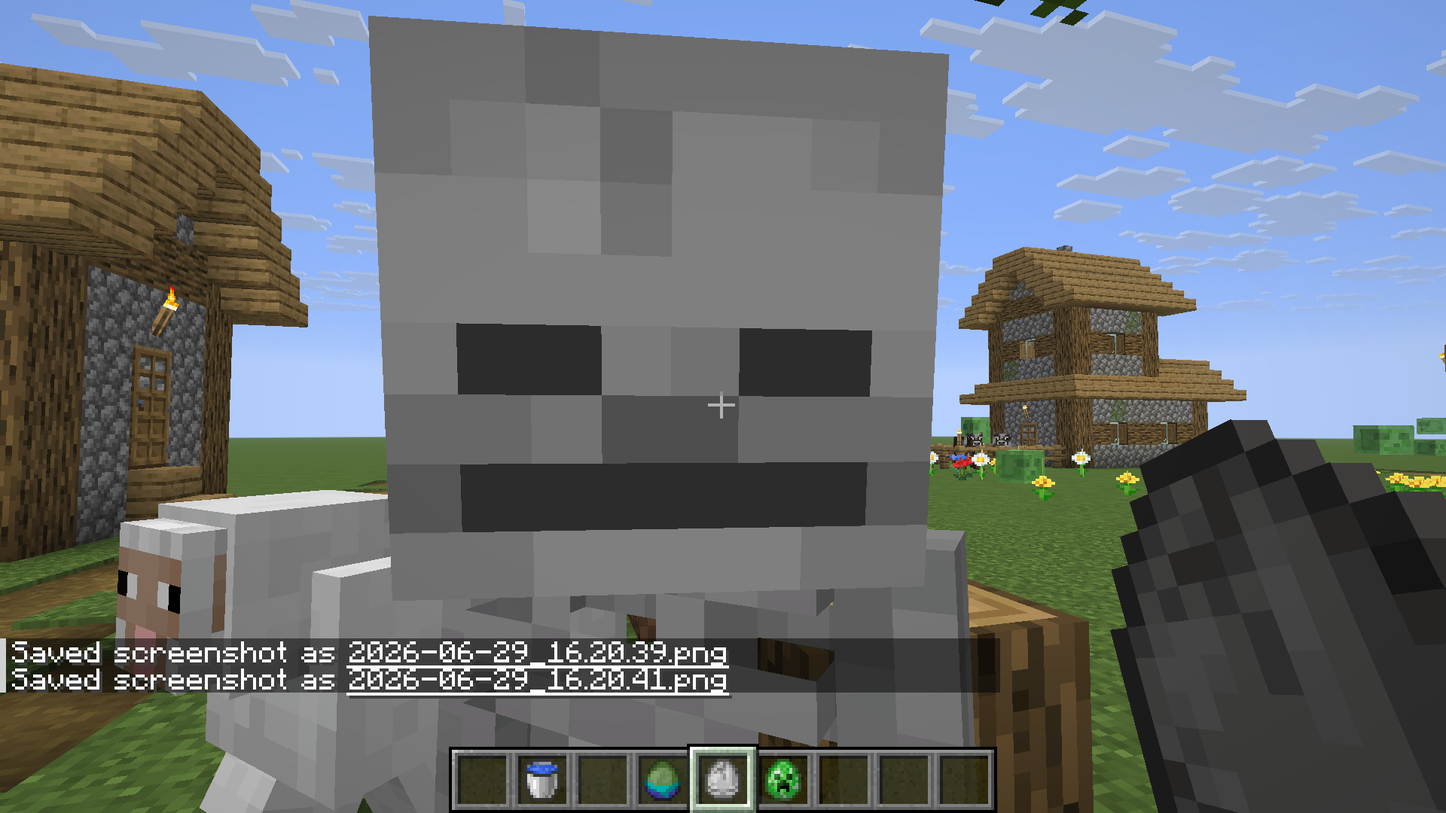Sheep: (108, 497, 386, 645)
skeleton: (368, 11, 960, 632)
